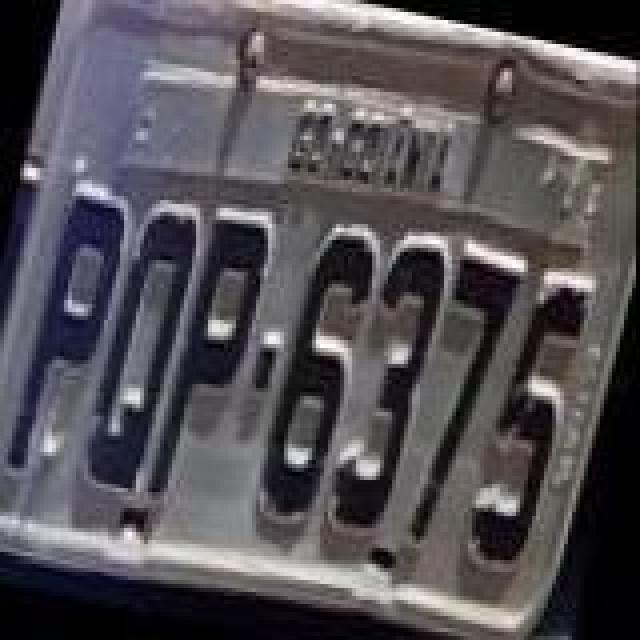3: (324, 232, 452, 536)
5: (460, 272, 596, 576)
6: (252, 222, 388, 530)
7: (398, 248, 530, 552)
P: (146, 210, 278, 518), (2, 188, 134, 492)
Q: (76, 198, 204, 498)
